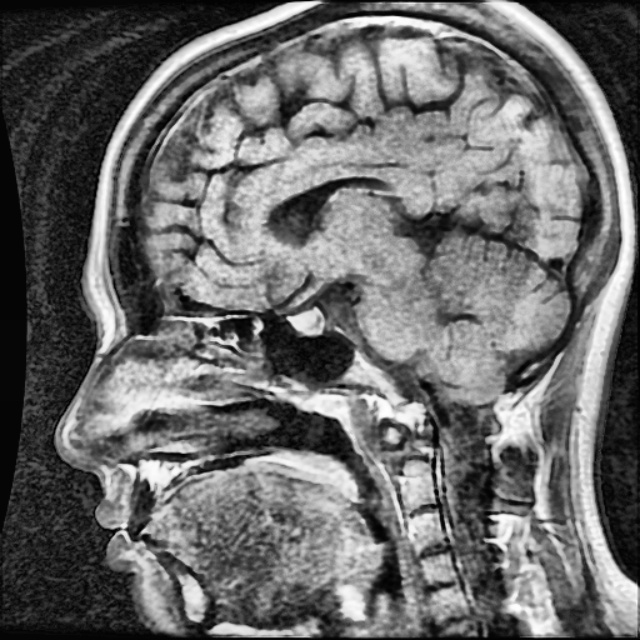Pituitary: (288, 309, 327, 334)
